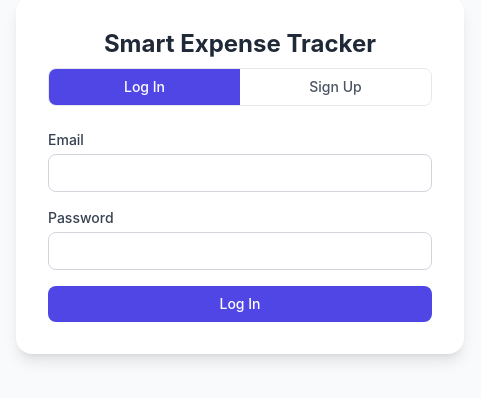
Test: AuthPage — Login mode › displays API error message below the submit button on login failure
Type "bad@example.com" into the field labelled "Email". click: [240, 173]
box: [48, 154, 432, 192]
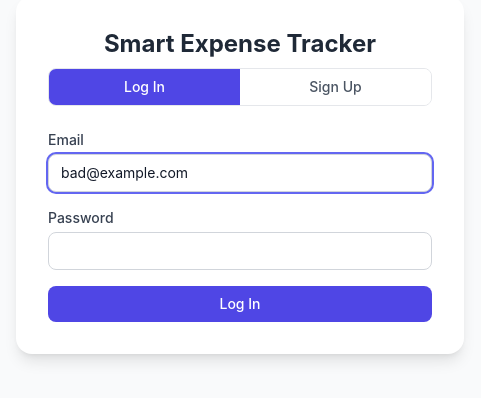
Type "wrongpass" into the password field labelled "Password". click: [240, 251]
box: [48, 232, 432, 270]
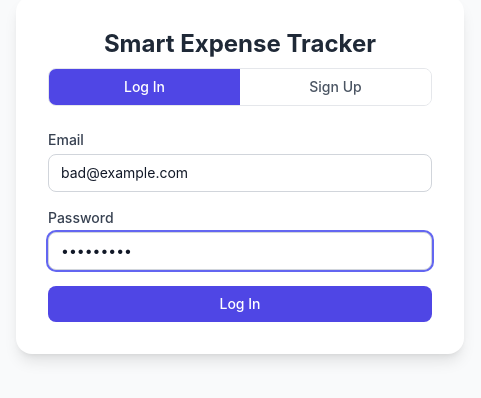
Click the submit button. click: [240, 304]
box: [48, 286, 432, 322]
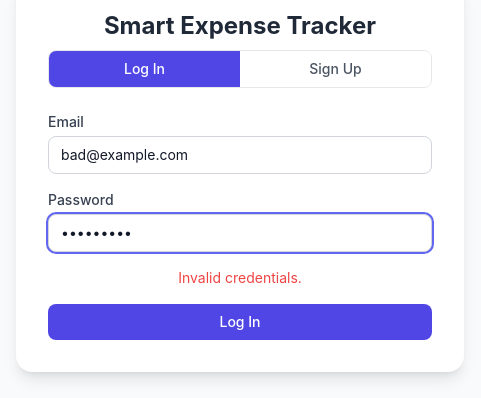
Now the text "Invalid credentials." is shown, box [178, 269, 302, 286]
